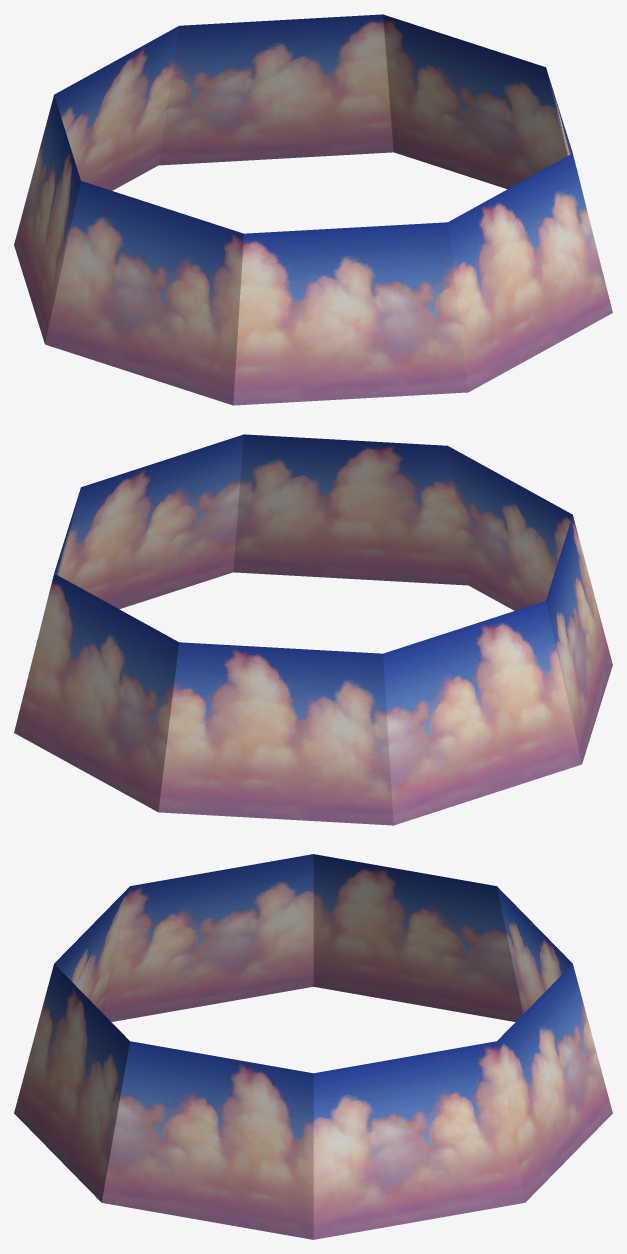
File: skybox1Shape.obj
3 renders of one model, top to bottom at view 1: azimuth 30°, elevation 25°; view 2: azimuth 150°, elevation 25°; view 3: azimuth 270°, elevation 25°, orthographic. The views are drawn at different scales.
Visible parts, largest first — view 1: skybox1Shape; view 2: skybox1Shape; view 3: skybox1Shape.
Part boxes in pixels (box(x1,y1,x2,y2)): skybox1Shape: box(14, 14, 612, 405); skybox1Shape: box(14, 434, 612, 825); skybox1Shape: box(14, 854, 612, 1239).
Bounding box in the file's own units: 1916 × 528 × 1916.
1 material, 1 textured.
